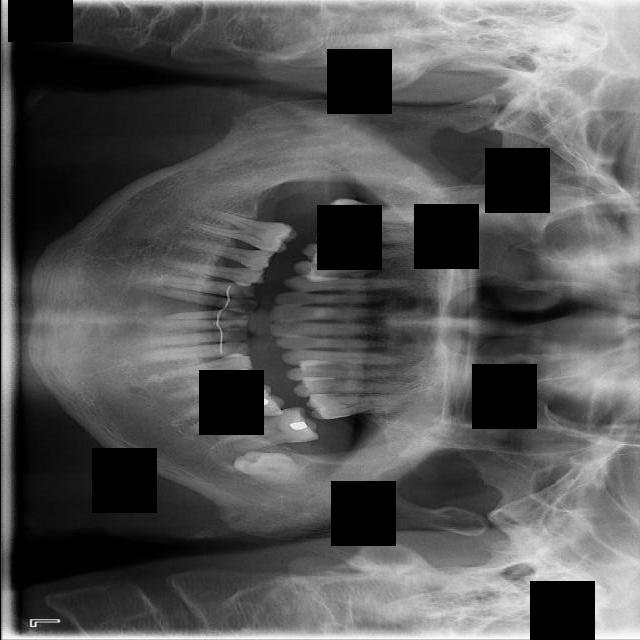52: (230, 373, 289, 432), (259, 405, 320, 449)
73: (57, 580, 71, 586)
Biomet 3i Implant: (231, 441, 302, 488)
Blue Sky Bio Implant: (215, 404, 322, 454)
Caries: (321, 197, 432, 226)
